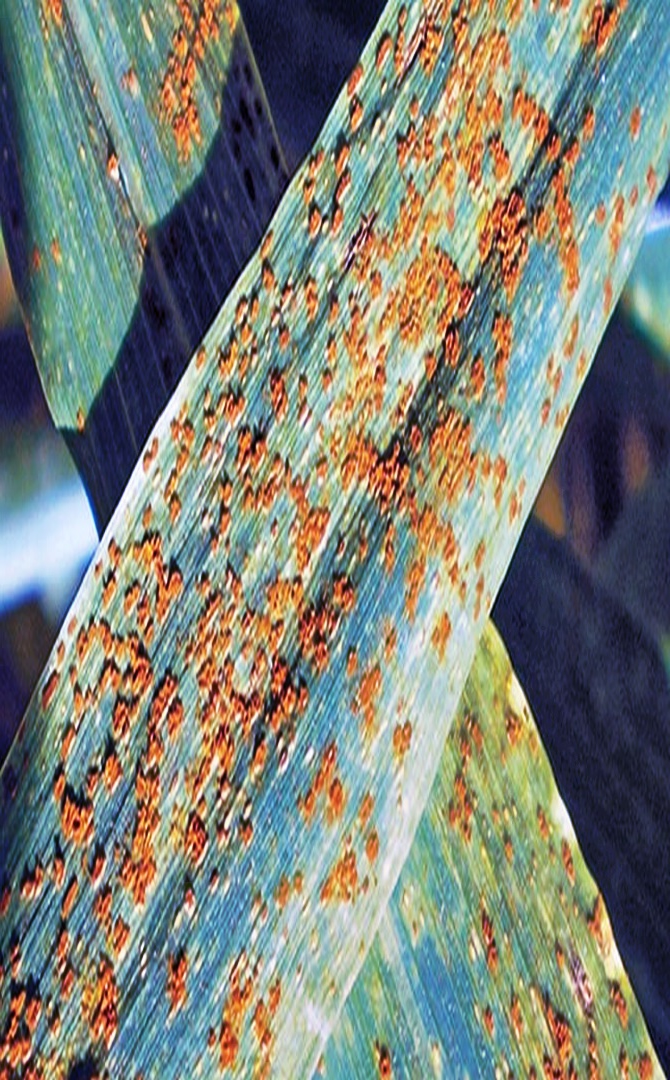Leaf Rust: (33, 37, 628, 1021)
